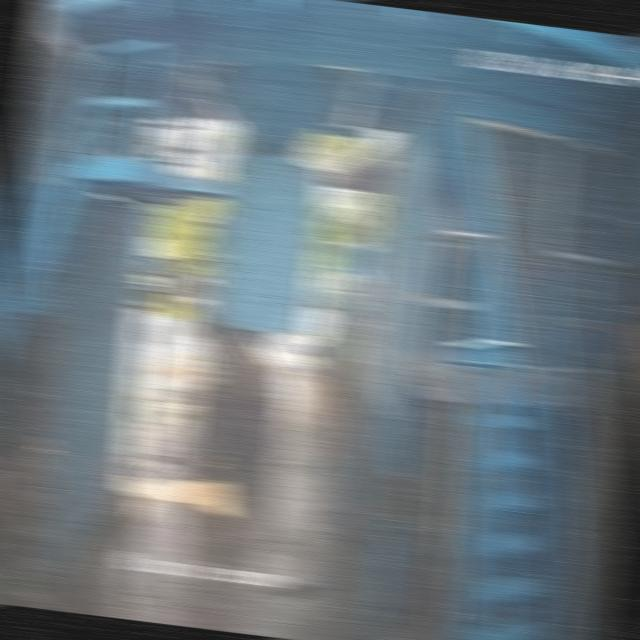cement_mixer_truck: (184, 279, 289, 468)
